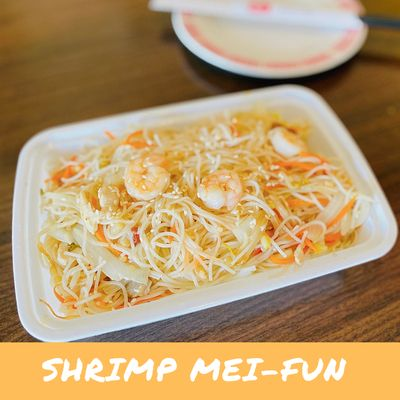curry: (3, 1, 399, 341)
